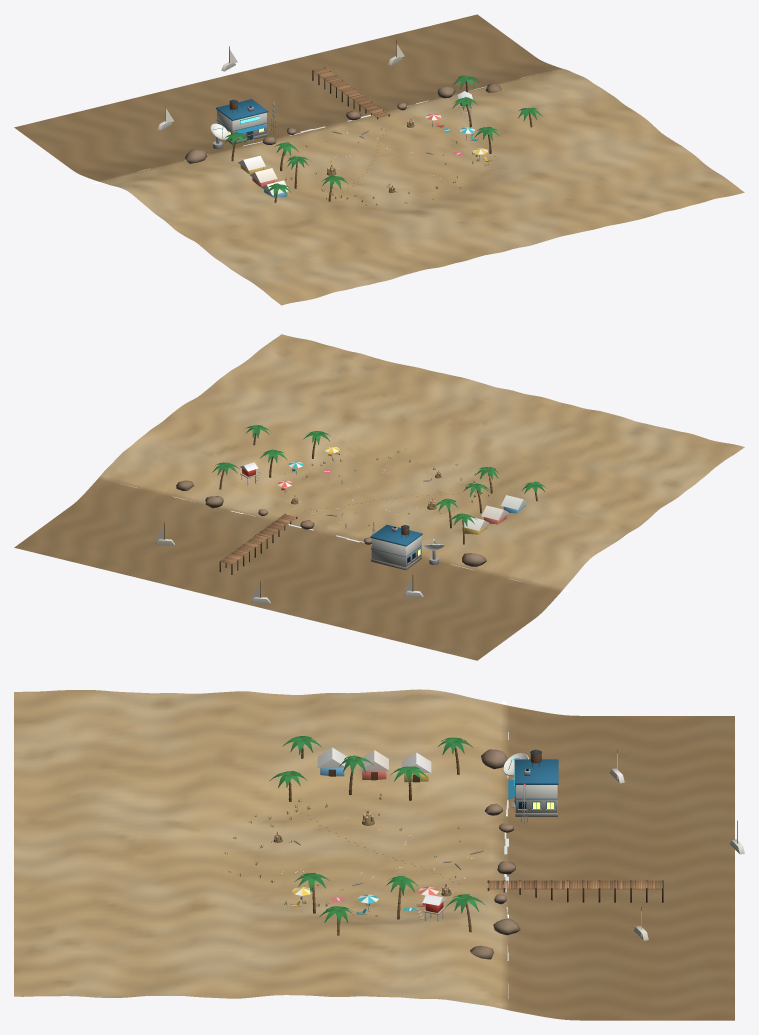
File: journey_beach.glb
3 renders of one model, top to bottom at view 1: azimuth 30°, elevation 25°; view 2: azimuth 150°, elevation 25°; view 3: azimuth 270°, elevation 25°, orthographic. The views are drawn at different scales.
Visible parts, largest first — view 1: Scenery_Journey Ground.002, Scenery_Journey Stone.002, Scenery_Journey Foliage.002, Scenery_Journey Wood.002, Scenery_Journey Paint.002, Scenery_Journey Plaster.002, Scenery_Journey Fabric.002, Scenery_Journey Bark.002; view 2: Scenery_Journey Ground.002, Scenery_Journey Stone.002, Scenery_Journey Foliage.002, Scenery_Journey Plaster.002, Scenery_Journey Paint.002, Scenery_Journey Wood.002, Scenery_Journey Fabric.002; view 3: Scenery_Journey Ground.002, Scenery_Journey Stone.002, Scenery_Journey Foliage.002, Scenery_Journey Wood.002, Scenery_Journey Paint.002, Scenery_Journey Plaster.002, Scenery_Journey Fabric.002, Scenery_Journey Bark.002.
Part boxes in pixels (x1=…): Scenery_Journey Ground.002: x1=14, y1=14, x2=744, y2=305; Scenery_Journey Stone.002: x1=185, y1=83, x2=501, y2=163; Scenery_Journey Foliage.002: x1=224, y1=75, x2=542, y2=205; Scenery_Journey Wood.002: x1=165, y1=40, x2=490, y2=166; Scenery_Journey Paint.002: x1=157, y1=56, x2=472, y2=195; Scenery_Journey Plaster.002: x1=210, y1=110, x2=286, y2=197; Scenery_Journey Fabric.002: x1=138, y1=44, x2=537, y2=186; Scenery_Journey Bark.002: x1=231, y1=78, x2=532, y2=202; Scenery_Journey Ground.002: x1=14, y1=334, x2=744, y2=660; Scenery_Journey Stone.002: x1=176, y1=480, x2=486, y2=570; Scenery_Journey Foliage.002: x1=212, y1=425, x2=546, y2=526; Scenery_Journey Plaster.002: x1=371, y1=504, x2=525, y2=567; Scenery_Journey Paint.002: x1=155, y1=462, x2=528, y2=603; Scenery_Journey Wood.002: x1=164, y1=453, x2=413, y2=597; Scenery_Journey Fabric.002: x1=117, y1=446, x2=520, y2=597; Scenery_Journey Ground.002: x1=14, y1=689, x2=734, y2=1020; Scenery_Journey Stone.002: x1=470, y1=749, x2=558, y2=959; Scenery_Journey Foliage.002: x1=224, y1=736, x2=484, y2=923; Scenery_Journey Wood.002: x1=290, y1=749, x2=737, y2=929; Scenery_Journey Paint.002: x1=272, y1=747, x2=744, y2=940; Scenery_Journey Plaster.002: x1=320, y1=753, x2=557, y2=812; Scenery_Journey Fabric.002: x1=276, y1=732, x2=641, y2=998; Scenery_Journey Bark.002: x1=288, y1=739, x2=483, y2=935.
Size of what is drawn, in the model's own units: 122 by 11.77 by 122.
